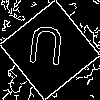U: (25, 25, 66, 75)
